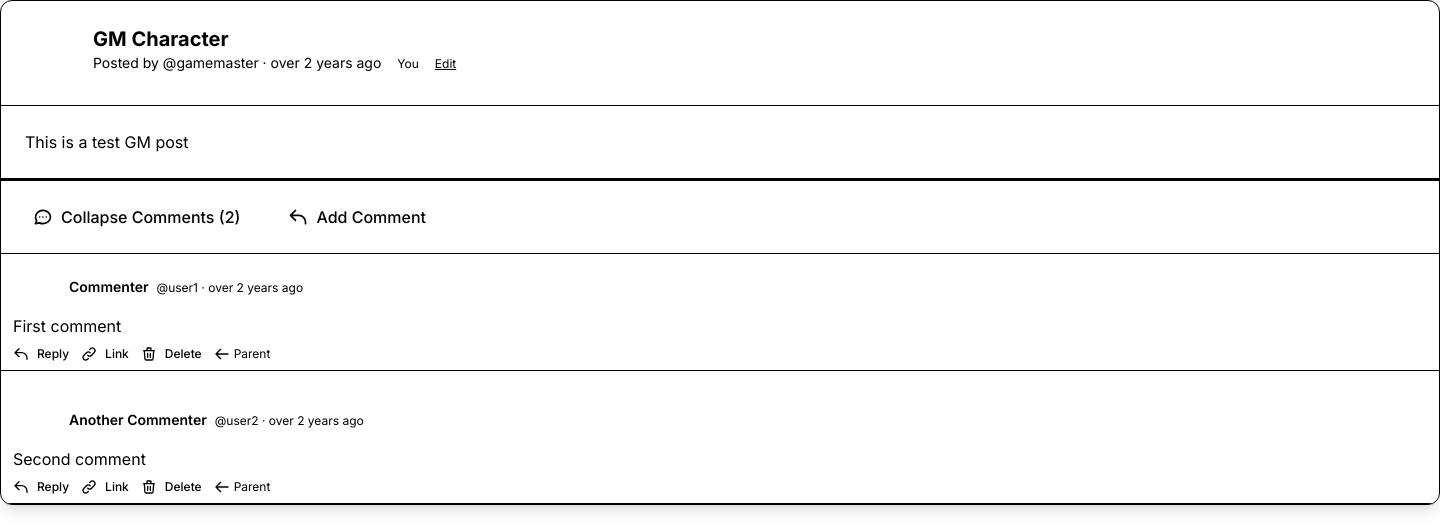
Test case: PostCard › Comments Toggle › toggles to expand comments when collapse is clicked
Click the button "Collapse Comments (2)".
click(137, 217)  # box [17,197,256,237]
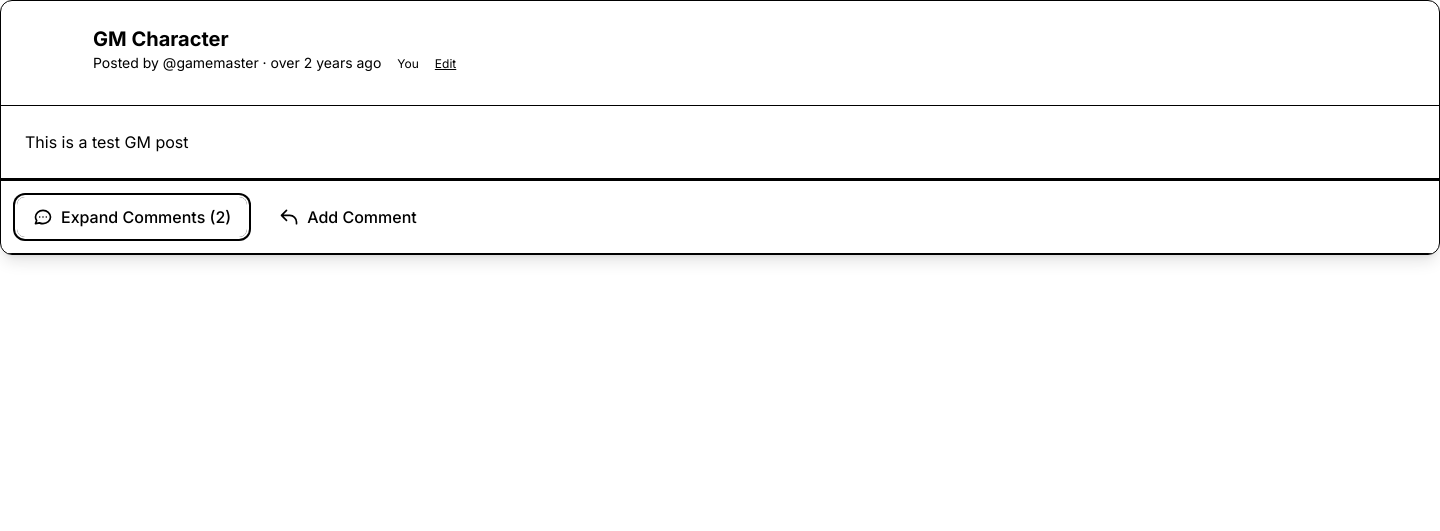
Now the button "Expand Comments (2)" is shown, box [17,197,247,237]
